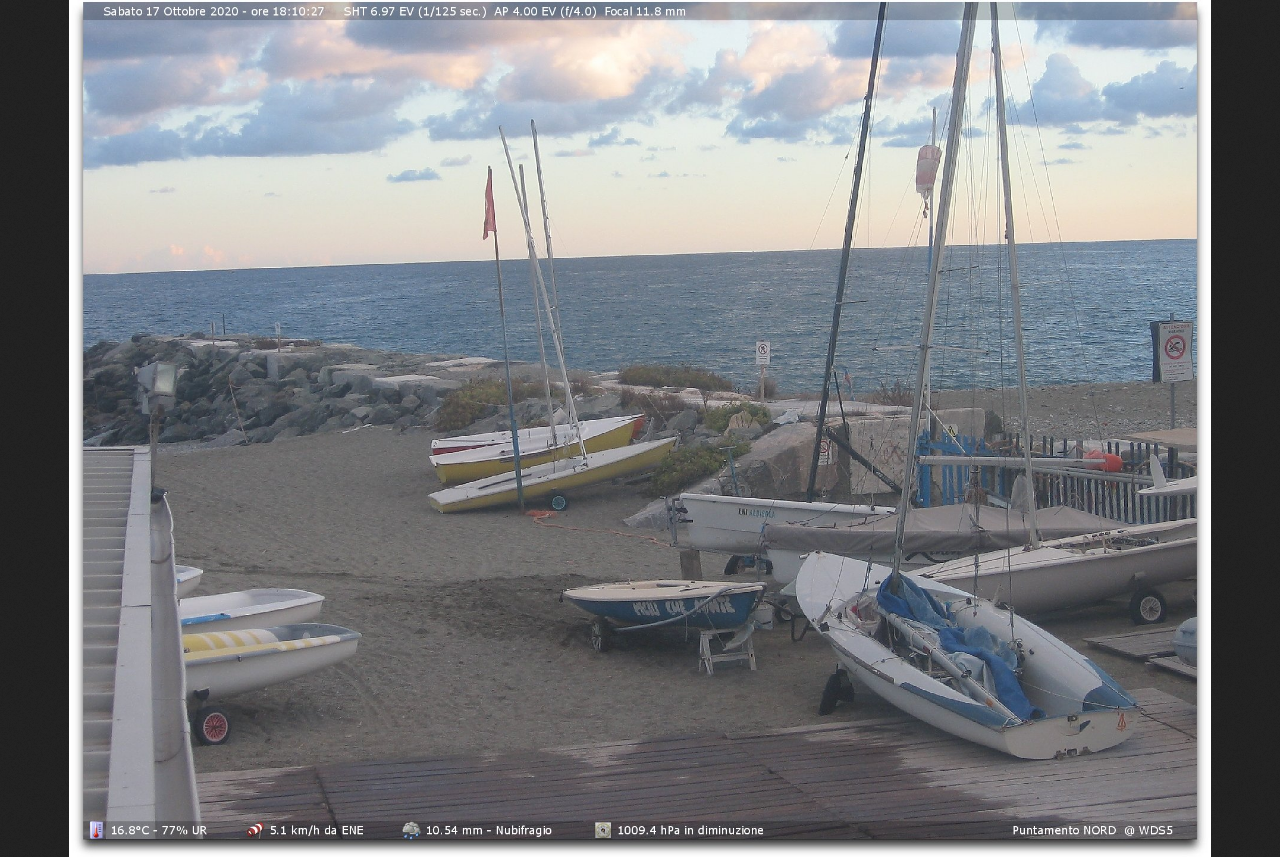no: (480, 174, 499, 237)
